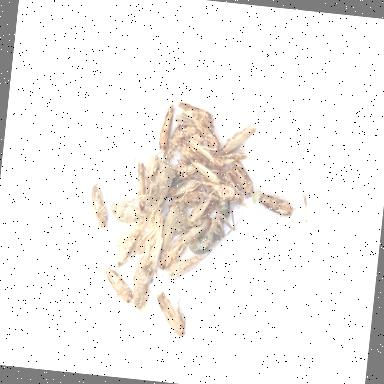pbw: (94, 254, 137, 304), (152, 287, 190, 338), (217, 167, 258, 213), (134, 204, 164, 264), (124, 150, 150, 218), (184, 114, 223, 158), (228, 158, 264, 201), (219, 121, 257, 158), (84, 180, 112, 230), (156, 232, 187, 272), (156, 94, 176, 156), (199, 178, 245, 204), (174, 100, 216, 128), (141, 153, 161, 206), (162, 122, 188, 162), (182, 214, 213, 247), (168, 252, 202, 282), (160, 202, 180, 252), (172, 154, 208, 181), (168, 174, 202, 202), (190, 160, 228, 185), (256, 194, 298, 216), (186, 194, 212, 229), (176, 142, 213, 166), (213, 150, 250, 169)
